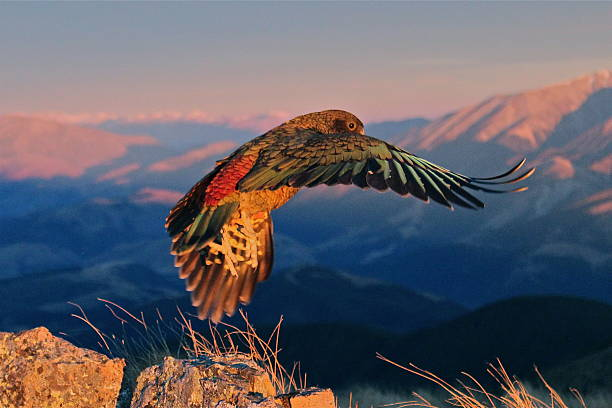Bird: (163, 107, 536, 322)
